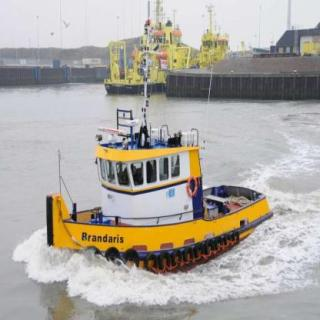Tug Boat: (40, 117, 268, 275)
